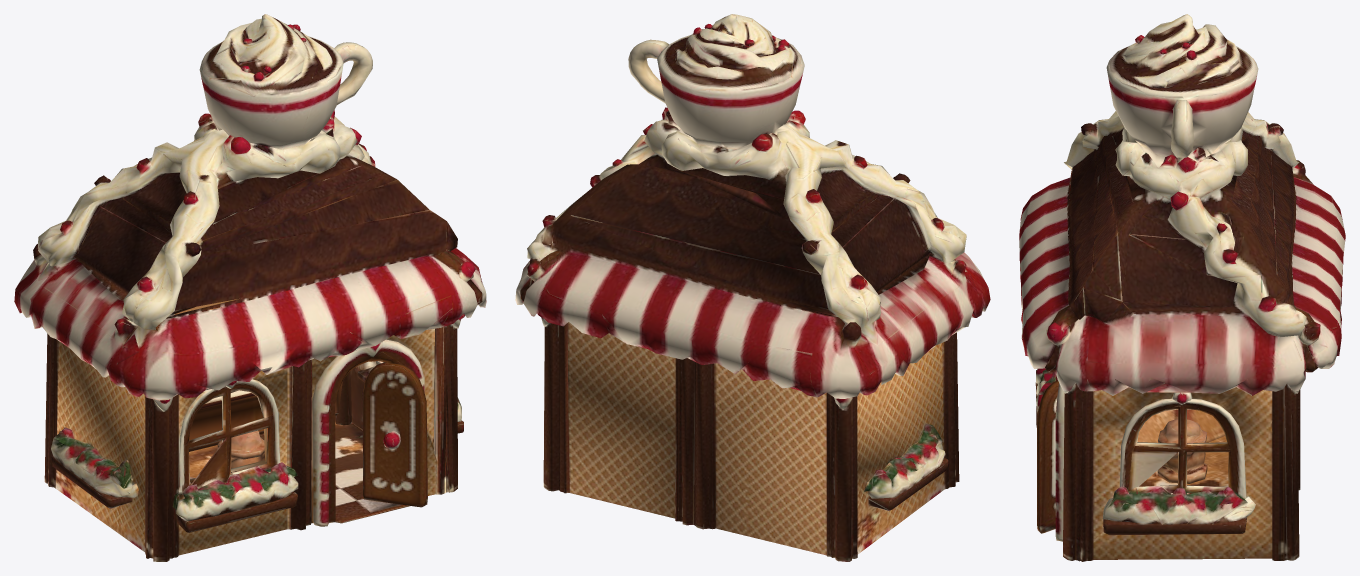
File: AW-HW-CAFE-001-v0.2.glb
3 views of the same model, side by side, from view 1: azimuth 30°, elevation 25°; view 2: azimuth 150°, elevation 25°; view 3: azimuth 270°, elevation 25° (orthographic). The views are drawn at different scales.
Parts seen in each view (by area): view 1: AW-HW-CAFE-001_meter_ground_pivot; view 2: AW-HW-CAFE-001_meter_ground_pivot; view 3: AW-HW-CAFE-001_meter_ground_pivot.
Boxes of the visible parts, x1,y1,x2,y2 form: AW-HW-CAFE-001_meter_ground_pivot: [14, 14, 486, 561]; AW-HW-CAFE-001_meter_ground_pivot: [515, 14, 990, 561]; AW-HW-CAFE-001_meter_ground_pivot: [1019, 14, 1345, 561].
Size of the model in its own units: 3.77 by 4.5 by 2.78.
Materials: 1 (1 with a texture image).
